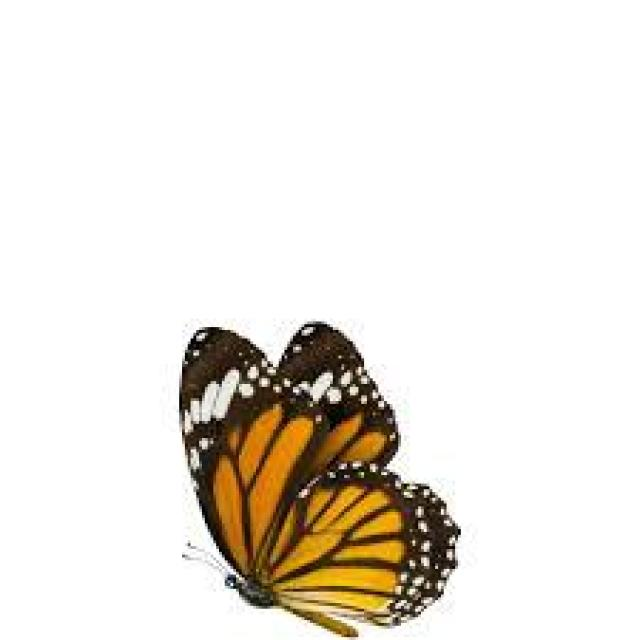butterfly: (122, 267, 461, 640)
